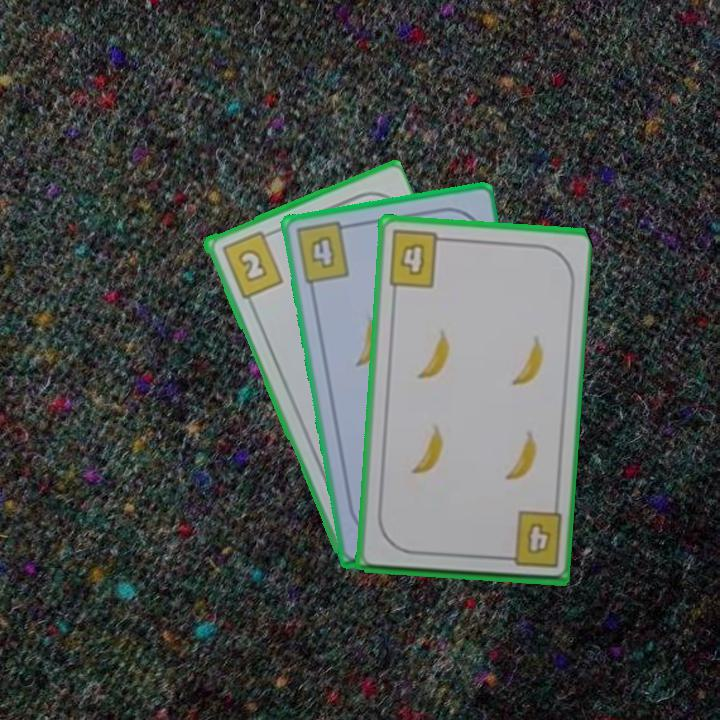2b: (217, 227, 286, 301)
4b: (291, 218, 355, 286), (496, 508, 564, 571), (385, 227, 450, 291)
